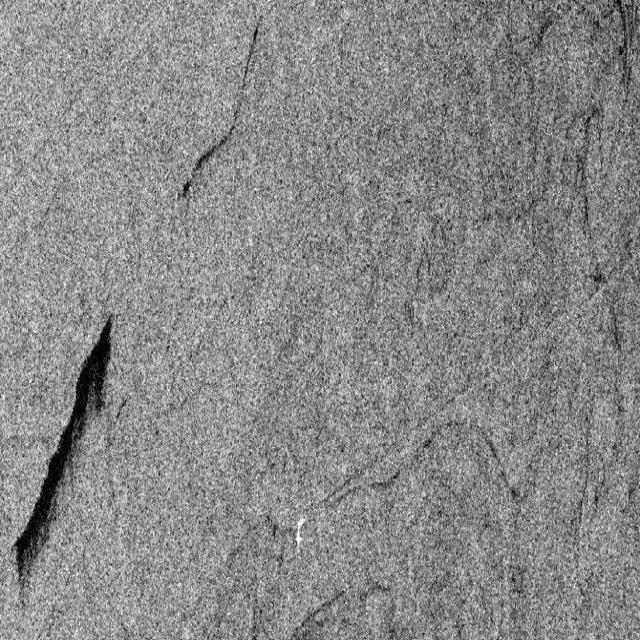look-alike: (175, 18, 272, 199), (566, 108, 602, 255), (607, 7, 638, 94)
oil-spill: (7, 314, 130, 590)
ship: (290, 517, 308, 553)
